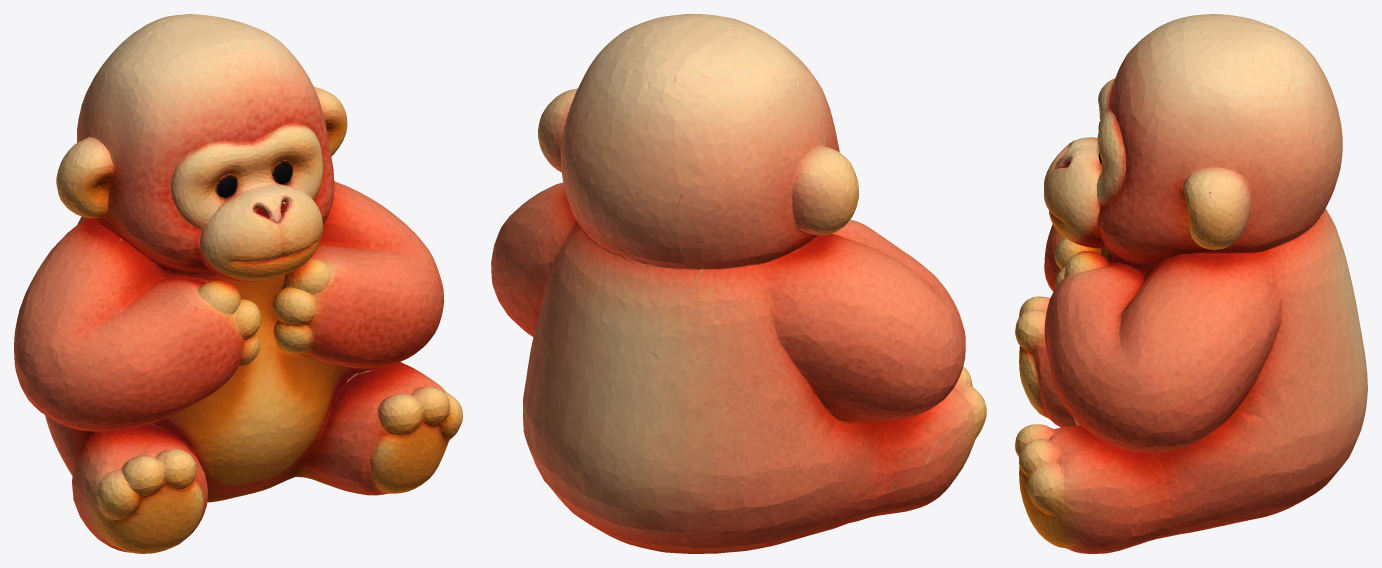
File: AnimePistol_Textured_00098_.glb
3 views of the same model, side by side, from view 1: azimuth 30°, elevation 25°; view 2: azimuth 150°, elevation 25°; view 3: azimuth 270°, elevation 25° (orthographic). The views are drawn at different scales.
Visible parts, largest first — view 1: world; view 2: world; view 3: world.
Boxes of the visible parts, x1,y1,x2,y2 form: world: [14, 14, 462, 553]; world: [491, 14, 986, 553]; world: [1015, 14, 1367, 553].
Bounding box in the file's own units: 0.9673 × 1 × 0.7018.
1 material, 1 textured.
